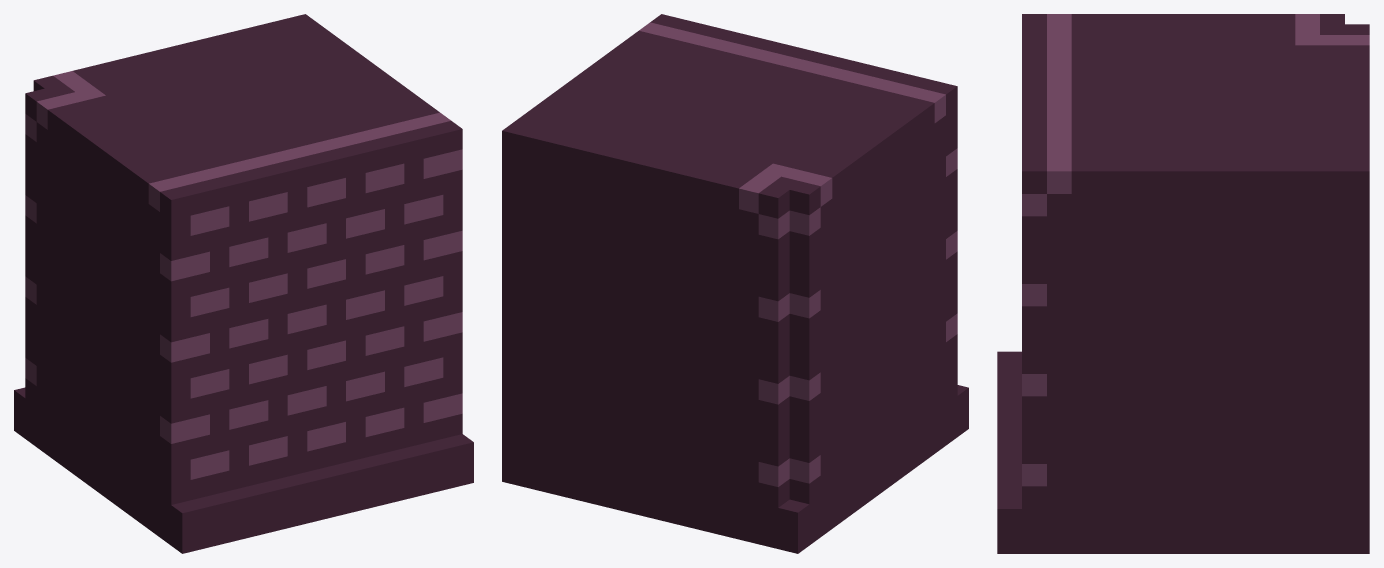
Rendered from dungeon_c_a_outer_wall_segment_c.obj.
The picture shows the model from 3 angles, left to right: view 1: azimuth 30°, elevation 25°; view 2: azimuth 150°, elevation 25°; view 3: azimuth 270°, elevation 25°; orthographic projection. The views are drawn at different scales.
Bounding box in the file's own units: 1.5 × 1.7 × 1.5.
1 material, 1 textured.
